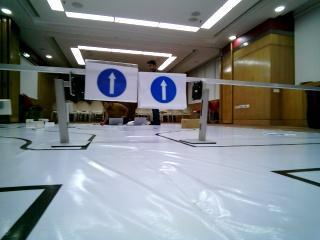straight: (85, 58, 140, 100), (140, 71, 186, 109)
